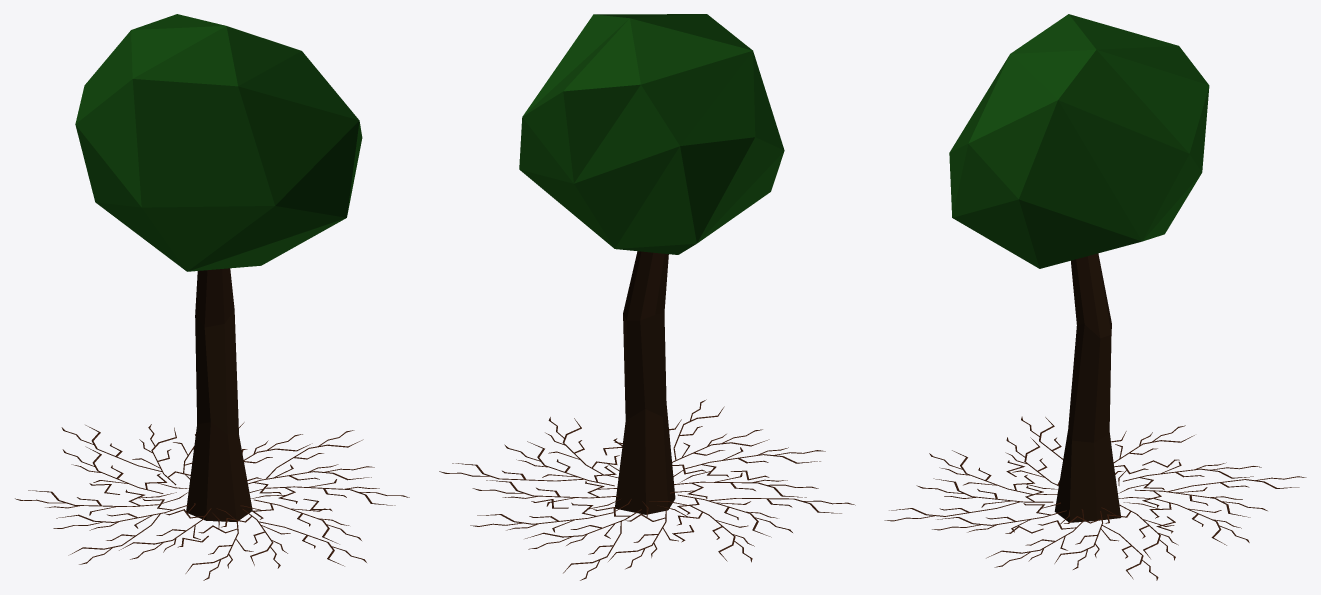
File: TreeRoots_430.obj
3 views of the same model, side by side, from view 1: azimuth 30°, elevation 25°; view 2: azimuth 150°, elevation 25°; view 3: azimuth 270°, elevation 25° (orthographic). The views are drawn at different scales.
Parts seen in each view (by area): view 1: Tron; view 2: Tron; view 3: Tron.
Part boxes in pixels (box(x1,y1,x2,y2)): Tron: box(75, 14, 362, 521); Tron: box(519, 14, 784, 514); Tron: box(949, 14, 1209, 522).
Size of the model in its own units: 174 by 231 by 189.
